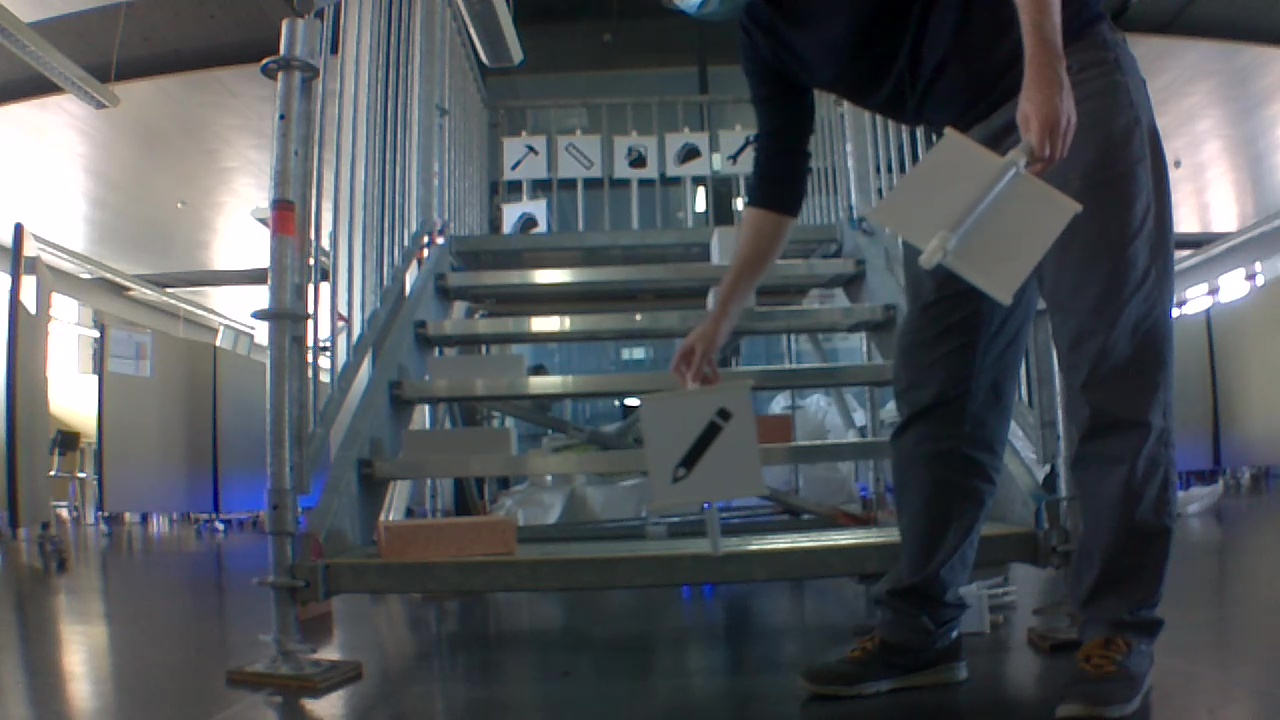brick: (371, 509, 524, 562), (402, 423, 519, 457), (425, 352, 527, 387), (757, 411, 797, 439)
bucket: (621, 141, 652, 170)
edge: (311, 537, 903, 595)
hammer: (507, 143, 539, 172)
pencil: (671, 402, 736, 485)
ruler: (562, 141, 595, 174)
taco: (510, 205, 542, 232), (669, 144, 701, 167)
wrench: (721, 135, 756, 166)
